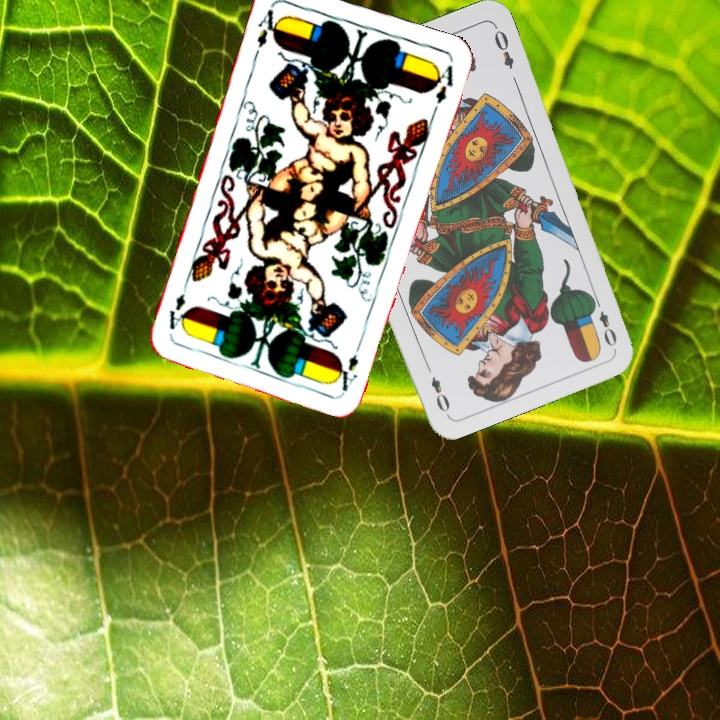EA: (249, 5, 284, 61), (337, 335, 365, 393)
EO: (588, 293, 620, 350)
